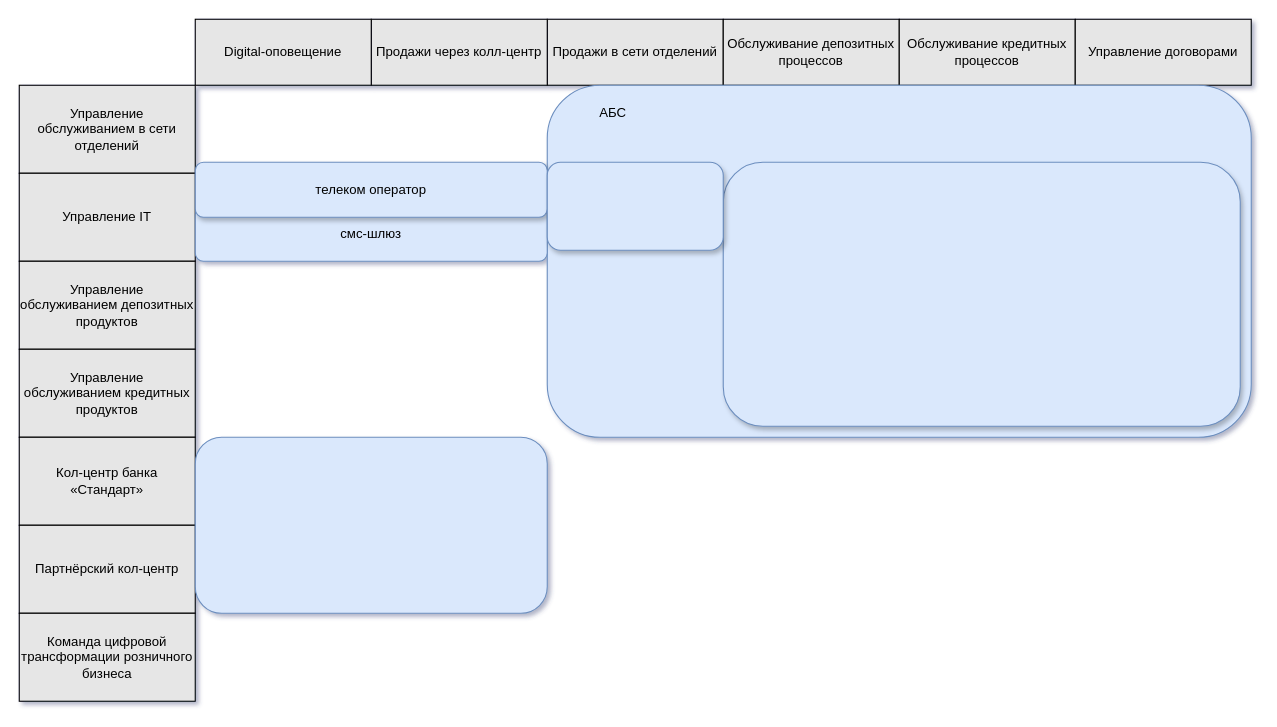
Image size: 1277x727. Some labels were removed from this diagram. The centre of each missing label's shape, as x and y in pixels:
"call-центр" belongs at point (370, 524).
"интернет-банк" belongs at point (982, 295).
"сайт" belongs at point (636, 207).
